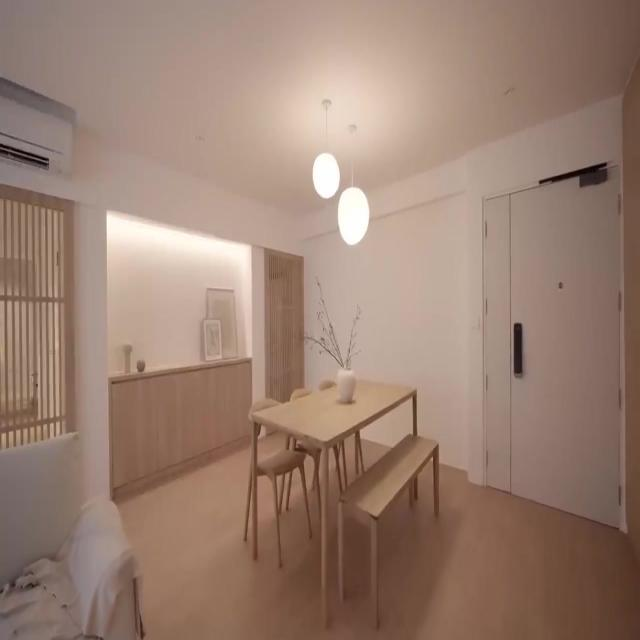door: (481, 160, 625, 532)
obstacle: (248, 377, 418, 626), (0, 430, 144, 638)
